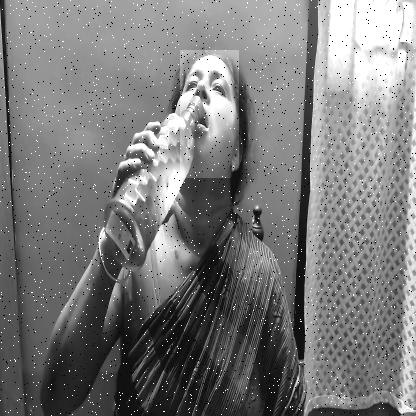Distracted: (180, 50, 239, 178)
